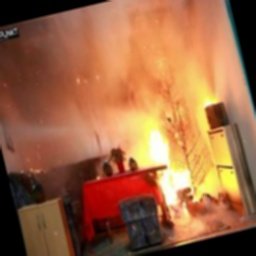fire: (118, 90, 224, 204)
